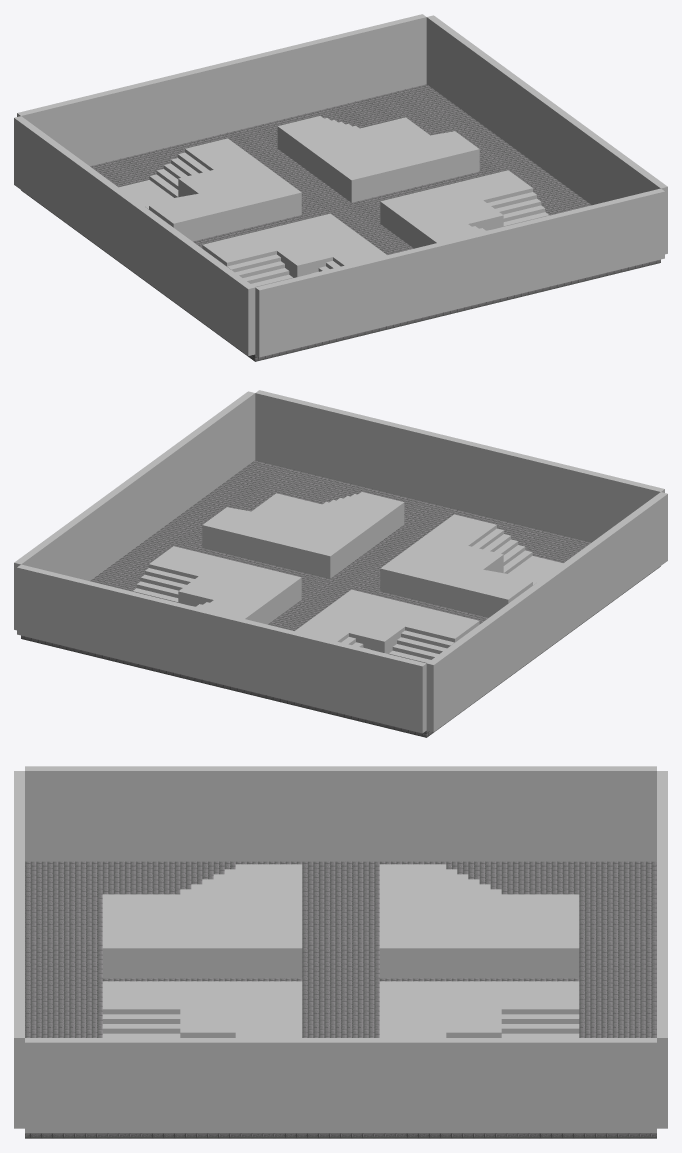
The model's file is Fort.obj.
3 views of the same model, one above another, from view 1: azimuth 30°, elevation 25°; view 2: azimuth 150°, elevation 25°; view 3: azimuth 270°, elevation 25° (orthographic). The views are drawn at different scales.
Visible parts, largest first — view 1: Deepslate_Bricks, Stone_Bricks, Deepslate_Brick_Slab; view 2: Deepslate_Bricks, Stone_Bricks, Deepslate_Brick_Slab; view 3: Deepslate_Bricks, Stone_Bricks, Deepslate_Brick_Slab.
Boxes of the visible parts, x1,y1,x2,y2 form: Deepslate_Bricks: (14, 14, 667, 357); Stone_Bricks: (21, 84, 660, 361); Deepslate_Brick_Slab: (144, 118, 545, 283); Deepslate_Bricks: (14, 390, 667, 733); Stone_Bricks: (21, 460, 660, 737); Deepslate_Brick_Slab: (136, 494, 537, 659); Deepslate_Bricks: (14, 766, 667, 1133); Stone_Bricks: (25, 861, 656, 1138); Deepslate_Brick_Slab: (102, 869, 579, 1037).
Bounding box in the file's own units: 206 × 35 × 206.
